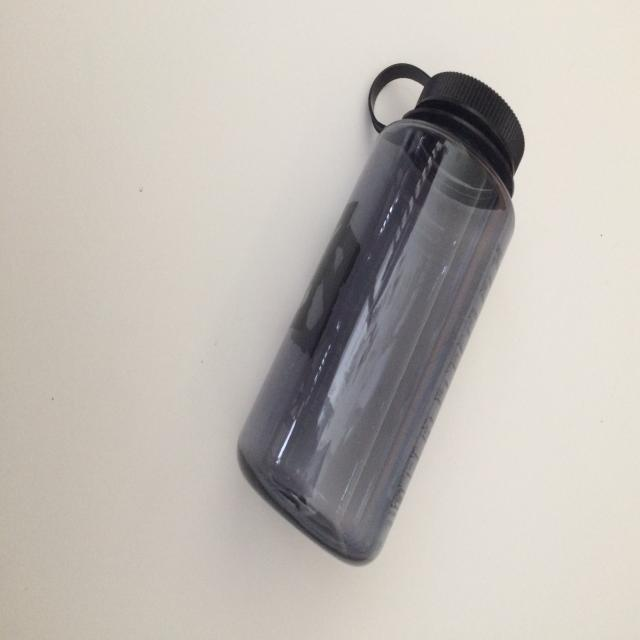plastic: (236, 64, 525, 565)
